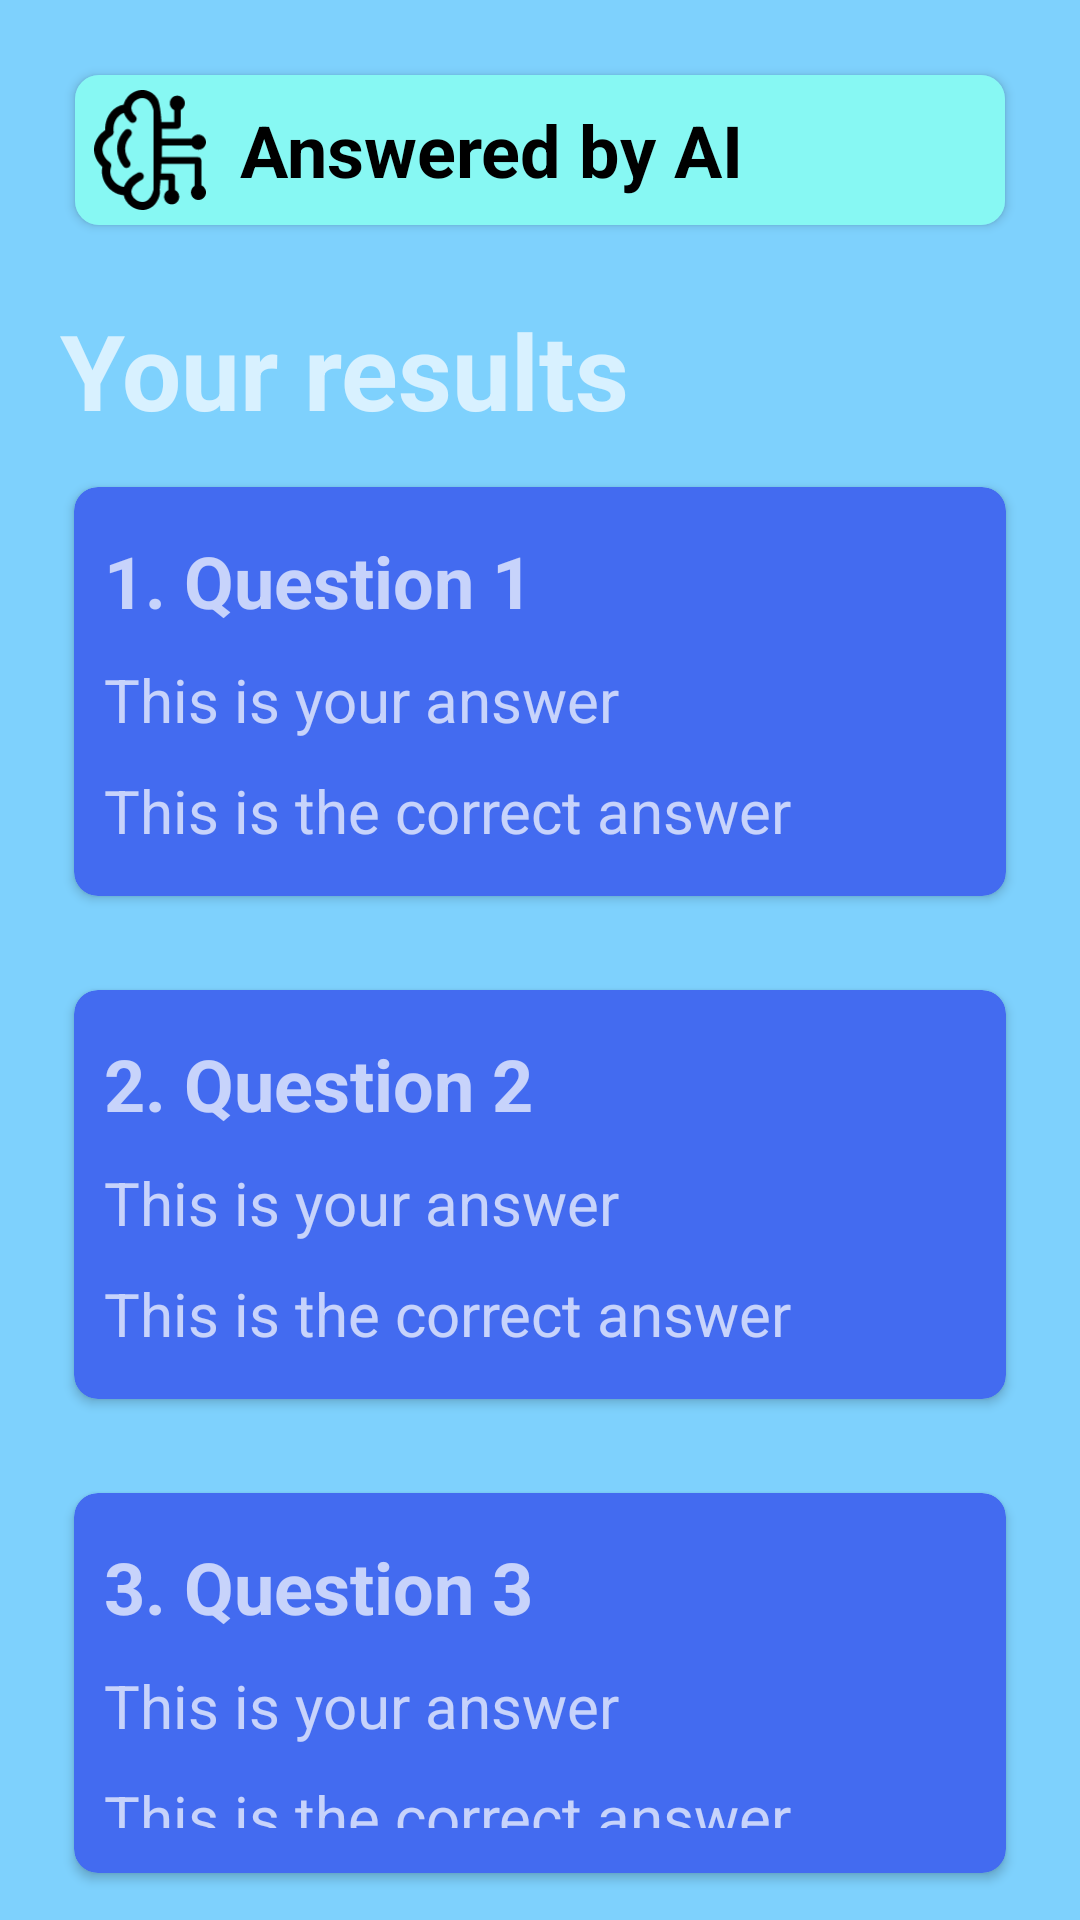

Where to tap for icons on this 1080px×1920px app screen, as point (x, y):
learning machine ai: point (150, 150)
